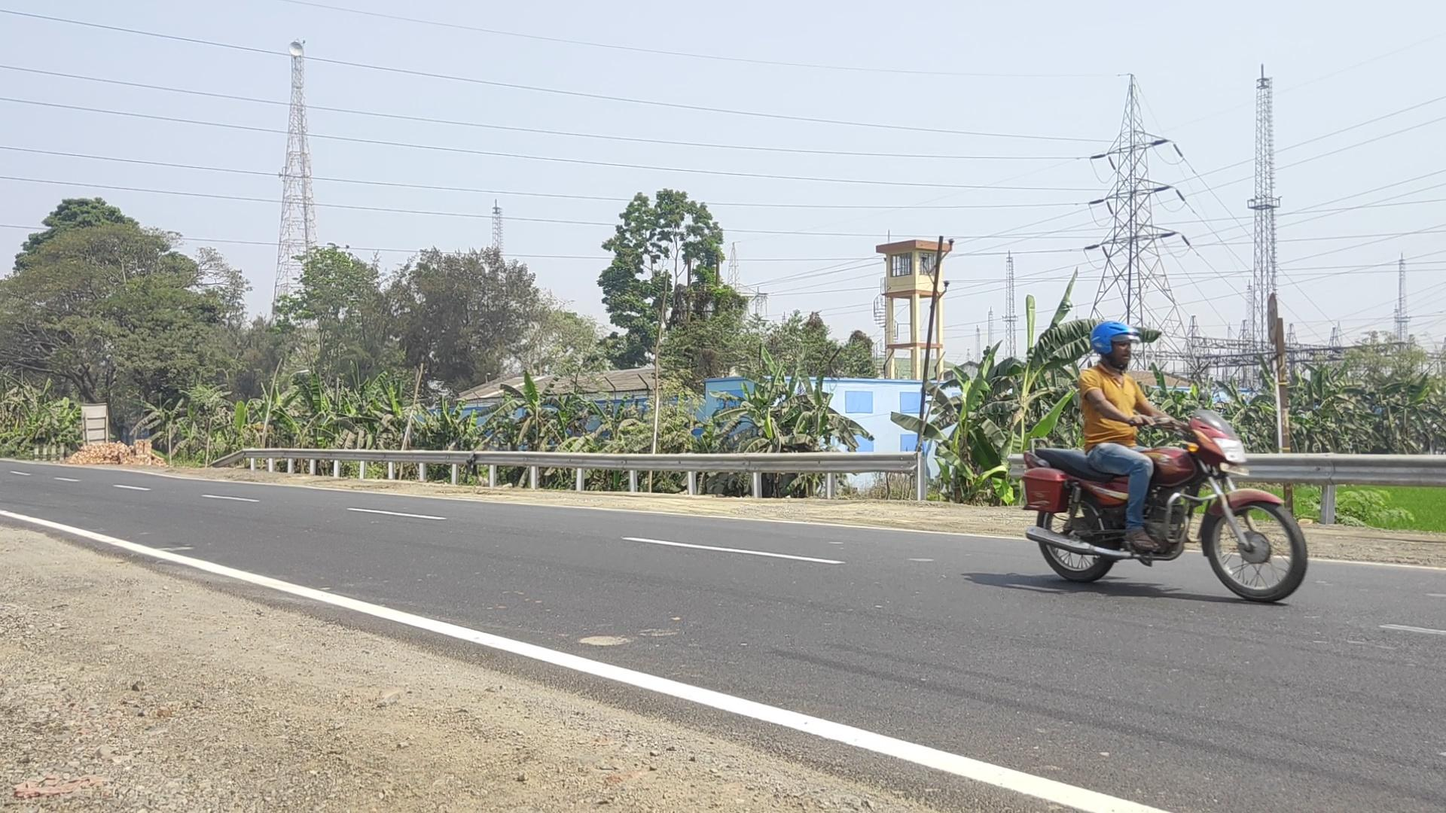bike: (1023, 321, 1308, 604)
